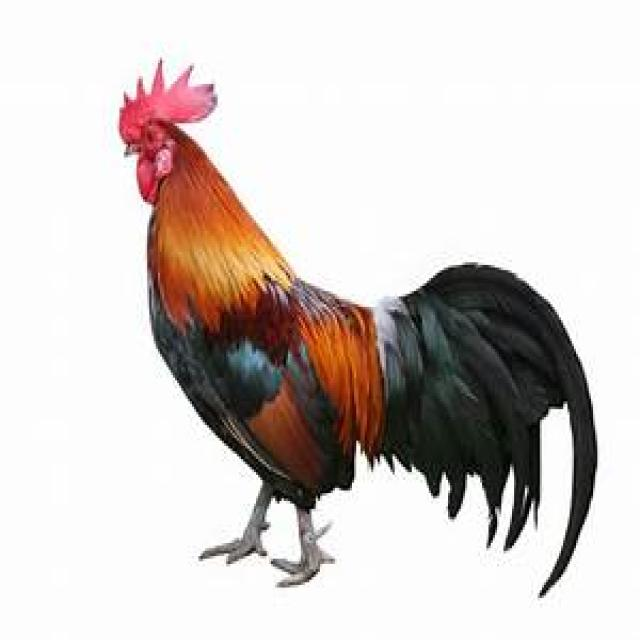hen: (115, 60, 599, 598)
